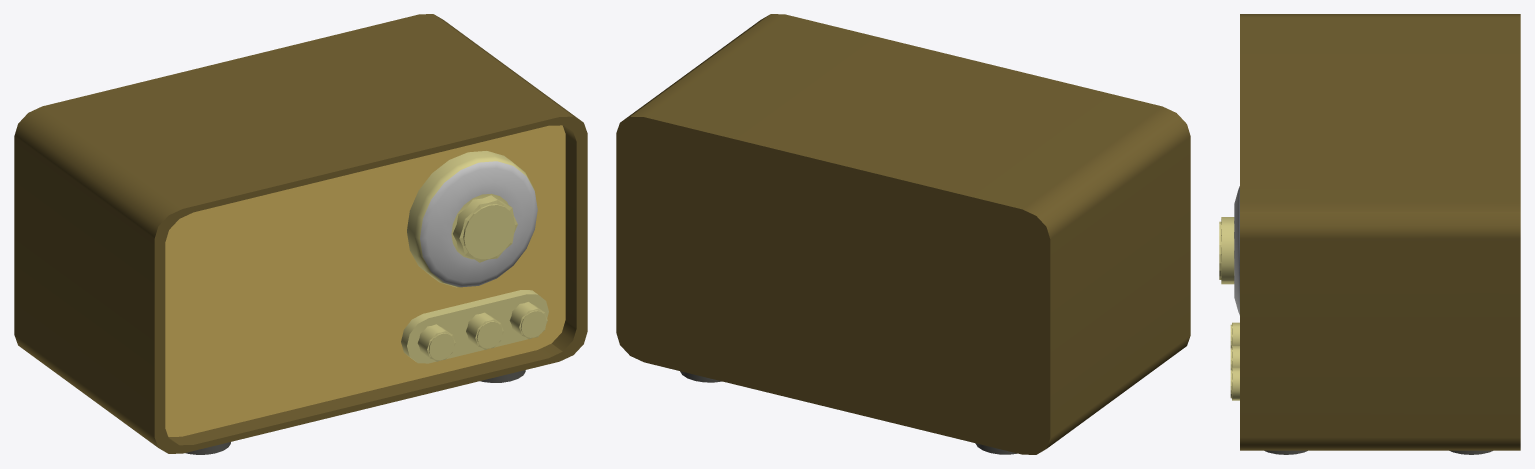
Rendered from ClassicRadio.fbx.
3 renders of one model, left to right at view 1: azimuth 30°, elevation 25°; view 2: azimuth 150°, elevation 25°; view 3: azimuth 270°, elevation 25°, orthographic.
Visible parts, largest first — view 1: polySurface12; view 2: polySurface12; view 3: polySurface12.
Boxes of the visible parts, left/top/right/bottom form: polySurface12: left=14, top=14, right=587, bottom=454; polySurface12: left=616, top=14, right=1190, bottom=454; polySurface12: left=1219, top=14, right=1520, bottom=454.
Bounding box in the file's own units: 40.12 × 23.02 × 24.17.
